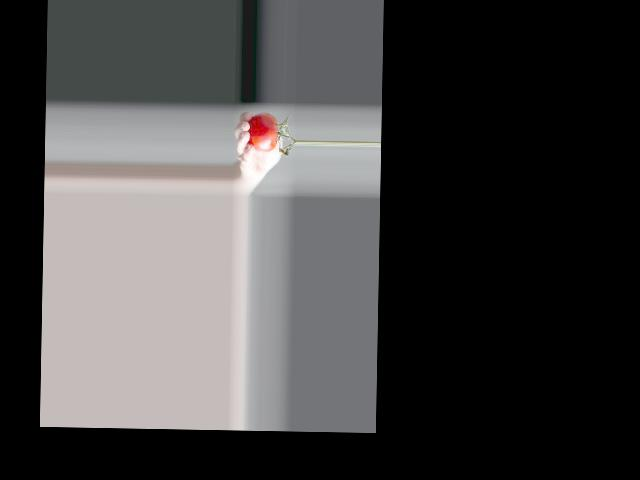tomato: (247, 112, 279, 152)
